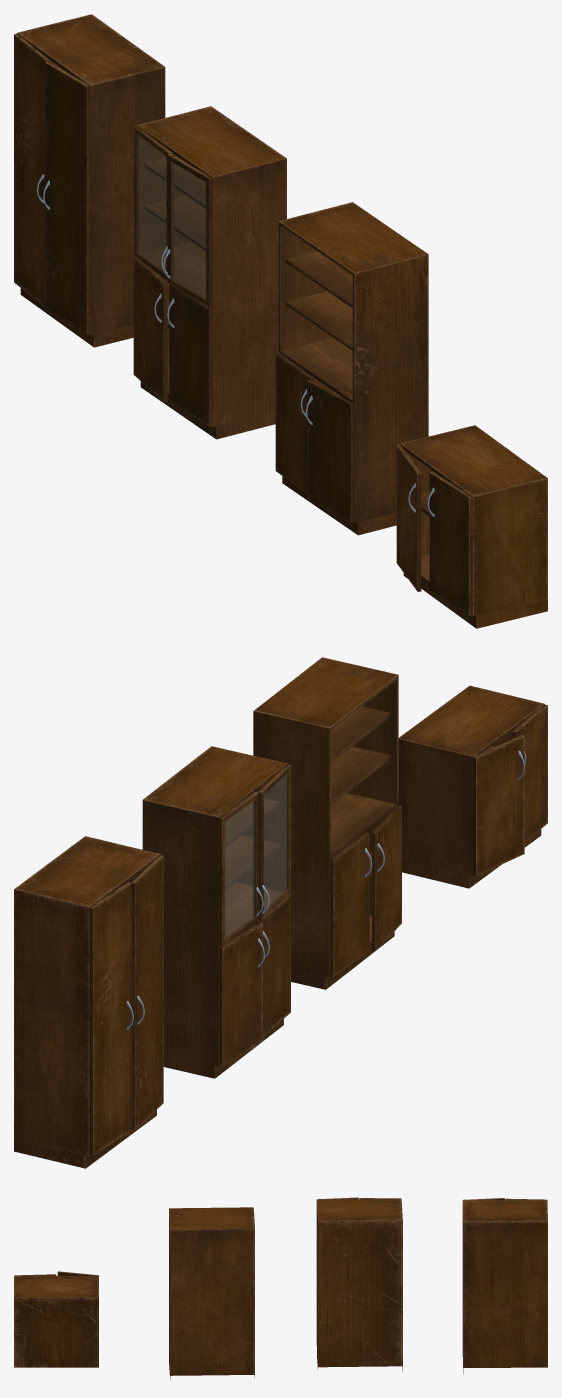
Rendered from wooden_closet_-25mb.glb.
3 renders of one model, top to bottom at view 1: azimuth 30°, elevation 25°; view 2: azimuth 150°, elevation 25°; view 3: azimuth 270°, elevation 25°, orthographic. The views are drawn at different scales.
Visible parts, largest first — view 1: 01_3_01_0, 03_2_03_0, 02_4_02_0, 04_2_04_0, 02_2_02_0, 02_3_02_0, glass, 01_4_01_0, 04_4_04_0, 03_3_03_0, 03_4_03_0, 01_2_01_0 (+2 smaller); view 2: 03_2_03_0, 01_3_01_0, 02_4_02_0, 04_2_04_0, 02_3_02_0, 02_2_02_0, 04_3_04_0, glass, 03_4_03_0, 01_2_01_0, 03_5_03_0, 01_4_01_0 (+2 smaller); view 3: 03_2_03_0, 01_3_01_0, 02_4_02_0, 04_2_04_0.
Part boxes in pixels (x1,y1,x2,y2): 01_3_01_0: (278,202,428,535); 03_2_03_0: (137,106,286,439); 02_4_02_0: (17,14,165,347); 04_2_04_0: (400,425,547,628); 02_2_02_0: (43,61,89,334); 02_3_02_0: (14,33,49,306); glass: (138,136,205,298); 01_4_01_0: (305,380,353,522); 04_4_04_0: (427,471,472,615); 03_3_03_0: (167,284,212,426); 03_4_03_0: (133,256,167,402); 01_2_01_0: (275,352,314,493); 03_2_03_0: (142,746,287,1078); 01_3_01_0: (253,657,398,989); 02_4_02_0: (14,836,160,1168); 04_2_04_0: (398,685,544,888); 02_3_02_0: (90,882,133,1155); 02_2_02_0: (131,855,163,1130); 04_3_04_0: (473,735,524,875); glass: (225,774,286,937); 03_4_03_0: (219,922,264,1065); 01_2_01_0: (330,832,372,976); 03_5_03_0: (219,764,290,946); 01_4_01_0: (372,805,401,951); 03_2_03_0: (316,1198,402,1371); 01_3_01_0: (169,1207,254,1379); 02_4_02_0: (462,1200,547,1373); 04_2_04_0: (14,1276,98,1367).
Size of the model in its own units: 89.15 by 205 by 630.
5 materials, 4 textured.
